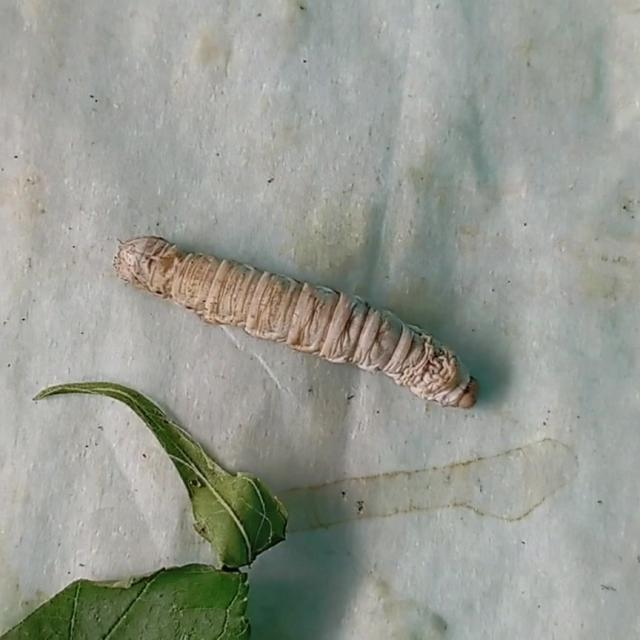Grasserie: (98, 200, 502, 440)
